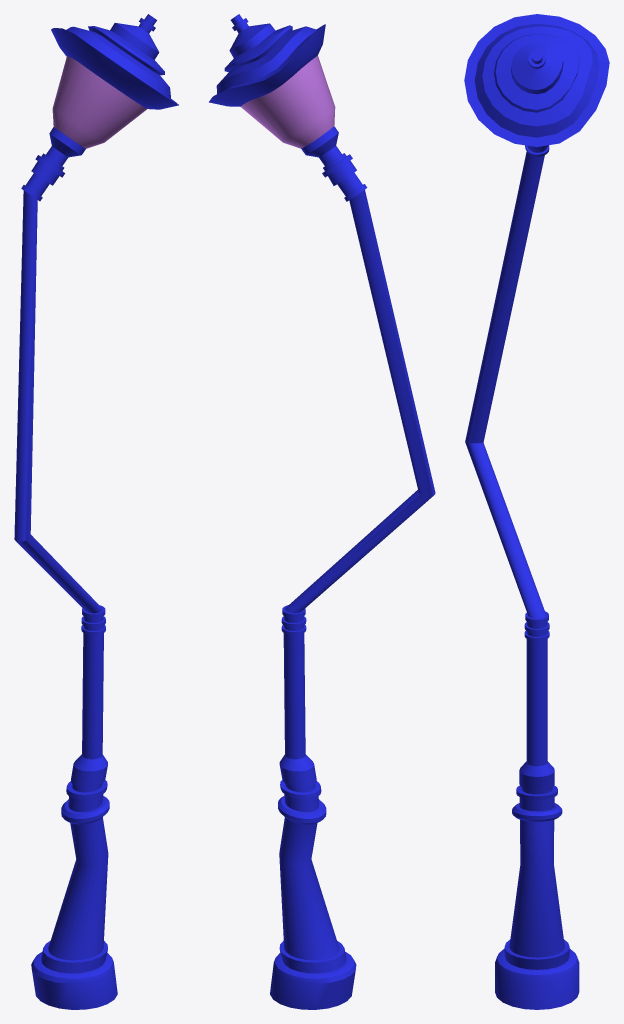
File: StreetLamp_03.fbx
The picture shows the model from 3 angles, left to right: view 1: azimuth 30°, elevation 25°; view 2: azimuth 150°, elevation 25°; view 3: azimuth 270°, elevation 25°; orthographic projection.
Visible parts, largest first — view 1: lamp_02.001; view 2: lamp_02.001; view 3: lamp_02.001.
Boxes of the visible parts, bbox=[...] form: lamp_02.001: bbox=[14, 14, 178, 1009]; lamp_02.001: bbox=[209, 14, 435, 1009]; lamp_02.001: bbox=[464, 14, 609, 1009].
Bounding box in the file's own units: 83.79 × 420 × 56.65.
